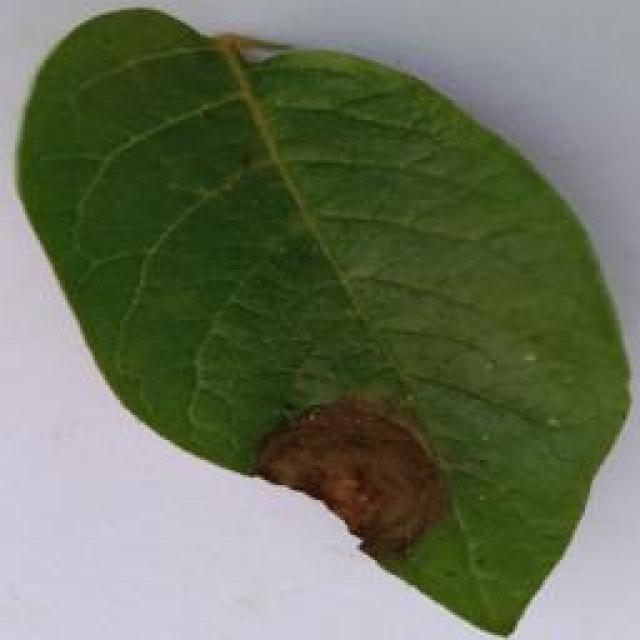Potato_Late_Blight: (16, 8, 620, 636)
